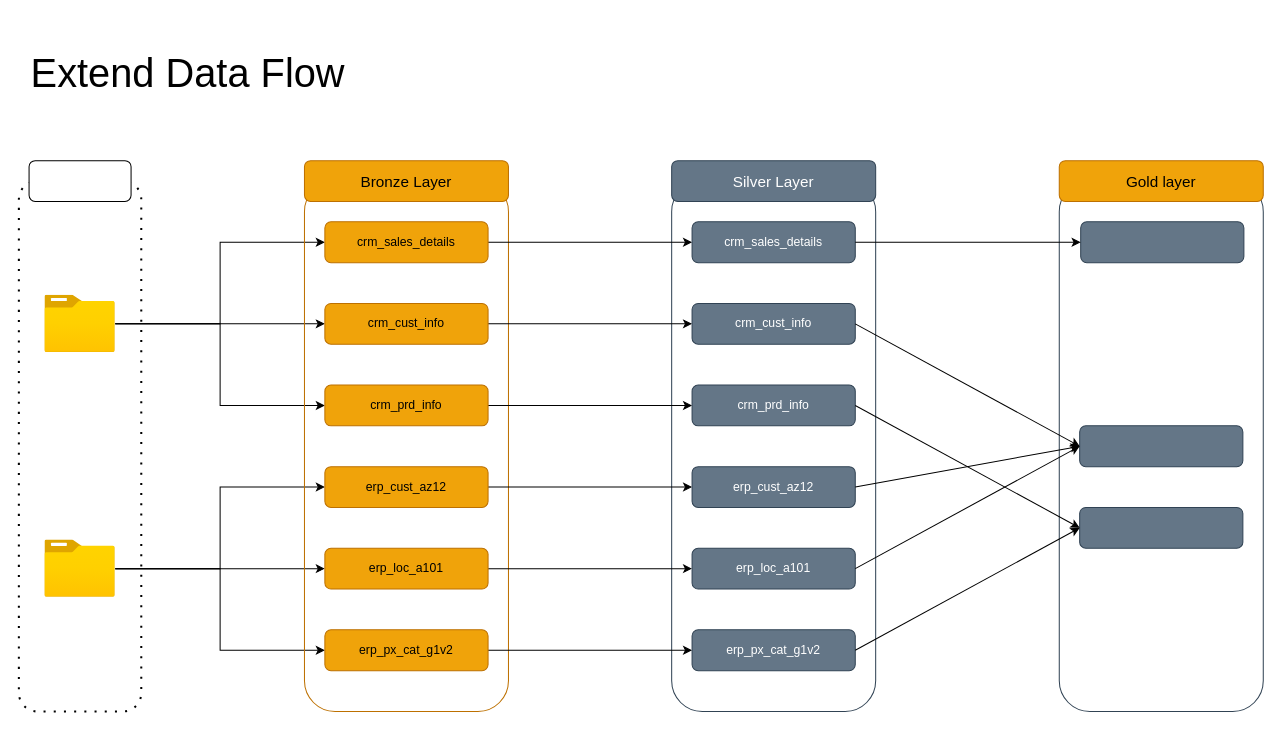
Image size: 1281x729. Some labels were removed from this diagram. Here are the shapes that lost their labels. From the top down, the centre of each, then its label:
At pixel 79 180: "Sources".
At pixel 1162 242: "fact_sales".
At pixel 79 323: "CRM".
At pixel 1161 446: "dim_customers".
At pixel 1161 527: "dim_products".
At pixel 79 568: "ERP".
